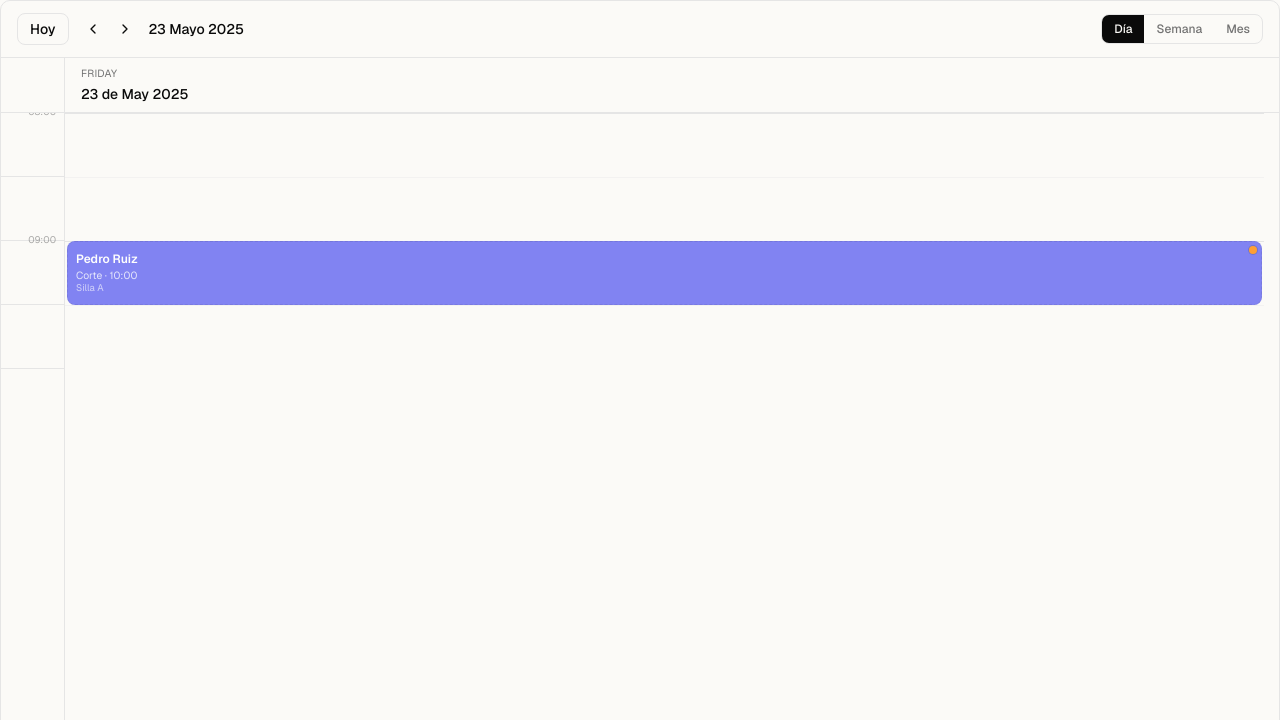
Scenario: CalendarView — acciones de estado › muestra notas cuando el evento las tiene
Click the text "Pedro Ruiz": (107, 259) [76,251,138,267]
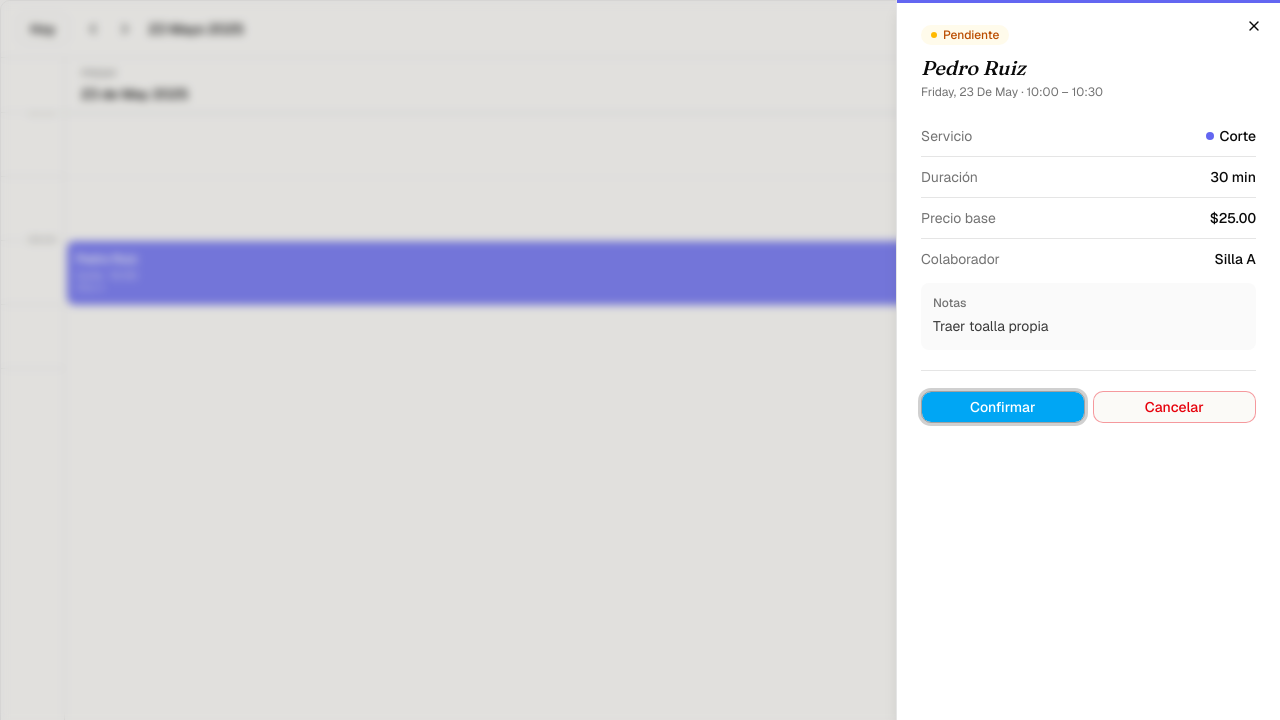
Expected: the text "Traer toalla propia" is shown, [933,317,1048,335]
